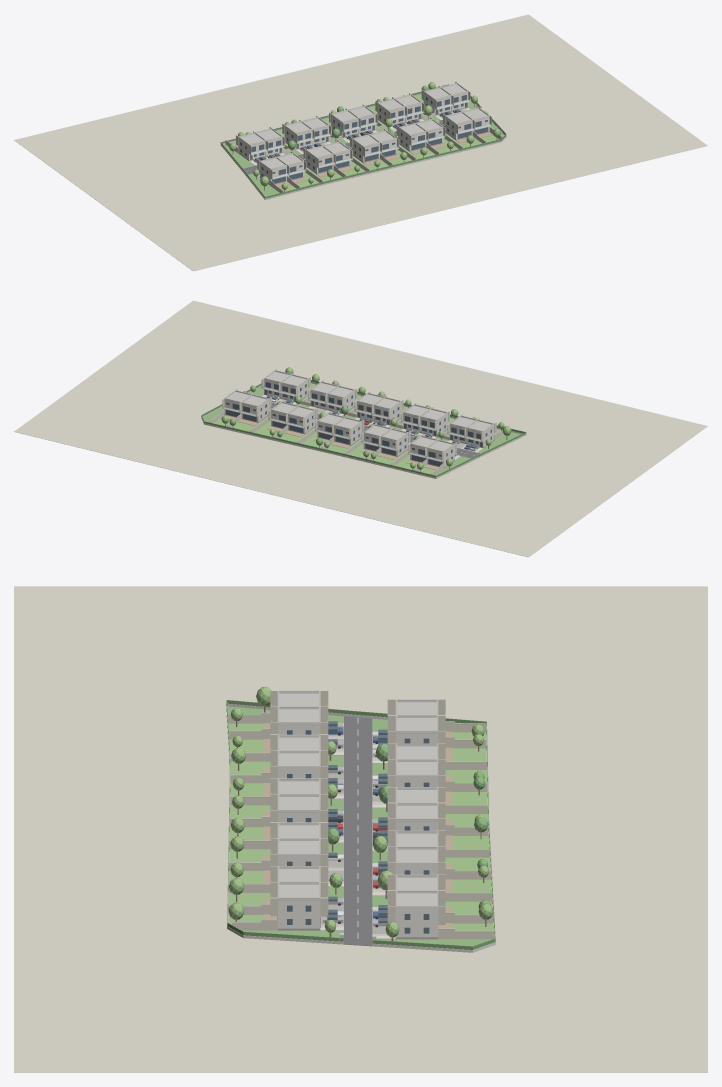
The picture shows the model from 3 angles, top to bottom: view 1: azimuth 30°, elevation 25°; view 2: azimuth 150°, elevation 25°; view 3: azimuth 270°, elevation 25°; orthographic projection. The views are drawn at different scales.
Visible parts, largest first — view 1: zemin__zemin, villa__duvar, villa__cakil, villa__cam, peyzaj__cim, villa__perde, villa__harpusta, agac__yaprak2, peyzaj__cit, peyzaj__perde, villa__duvar2, villa__korkuluk (+3 smaller); view 2: zemin__zemin, villa__duvar, villa__cakil, villa__cam, peyzaj__cim, villa__perde, villa__harpusta, peyzaj__cit, agac__yaprak2, peyzaj__perde, villa__korkuluk, villa__duvar2 (+4 smaller); view 3: zemin__zemin, villa__cakil, villa__duvar, peyzaj__cim, peyzaj__perde, villa__perde, yol__asfalt, agac__yaprak2, villa__harpusta, peyzaj__ortak, peyzaj__cit, peyzaj__bahce_duv (+6 smaller).
Part boxes in pixels (x1=…): zemin__zemin: x1=14, y1=14, x2=707, y2=271; villa__duvar: x1=238, y1=83, x2=491, y2=184; villa__cakil: x1=240, y1=84, x2=487, y2=168; villa__cam: x1=240, y1=95, x2=488, y2=183; peyzaj__cim: x1=231, y1=95, x2=506, y2=191; villa__perde: x1=236, y1=81, x2=491, y2=179; villa__harpusta: x1=238, y1=83, x2=489, y2=168; agac__yaprak2: x1=229, y1=82, x2=500, y2=189; peyzaj__cit: x1=220, y1=84, x2=506, y2=198; peyzaj__perde: x1=225, y1=85, x2=501, y2=192; villa__duvar2: x1=251, y1=92, x2=489, y2=180; villa__korkuluk: x1=251, y1=99, x2=491, y2=178; zemin__zemin: x1=14, y1=300, x2=707, y2=557; villa__duvar: x1=223, y1=370, x2=494, y2=466; villa__cakil: x1=227, y1=371, x2=491, y2=450; villa__cam: x1=226, y1=382, x2=491, y2=466; peyzaj__cim: x1=213, y1=383, x2=500, y2=474; villa__perde: x1=222, y1=368, x2=496, y2=462; villa__harpusta: x1=224, y1=370, x2=494, y2=451; peyzaj__cit: x1=201, y1=380, x2=526, y2=477; agac__yaprak2: x1=221, y1=367, x2=511, y2=469; peyzaj__perde: x1=209, y1=398, x2=503, y2=475; villa__korkuluk: x1=223, y1=386, x2=480, y2=461; villa__duvar2: x1=225, y1=379, x2=481, y2=463; zemin__zemin: x1=14, y1=586, x2=707, y2=1072; villa__cakil: x1=278, y1=693, x2=437, y2=905; villa__duvar: x1=278, y1=691, x2=438, y2=937; peyzaj__cim: x1=228, y1=723, x2=493, y2=952; peyzaj__perde: x1=228, y1=713, x2=494, y2=939; villa__perde: x1=270, y1=690, x2=445, y2=924; yol__asfalt: x1=344, y1=716, x2=372, y2=946; agac__yaprak2: x1=228, y1=687, x2=493, y2=937; villa__harpusta: x1=277, y1=690, x2=438, y2=906; peyzaj__ortak: x1=227, y1=706, x2=491, y2=952; peyzaj__cit: x1=226, y1=700, x2=495, y2=949; peyzaj__bahce_duv: x1=226, y1=703, x2=495, y2=952.
Size of the model in its own units: 244 by 7.75 by 147.
